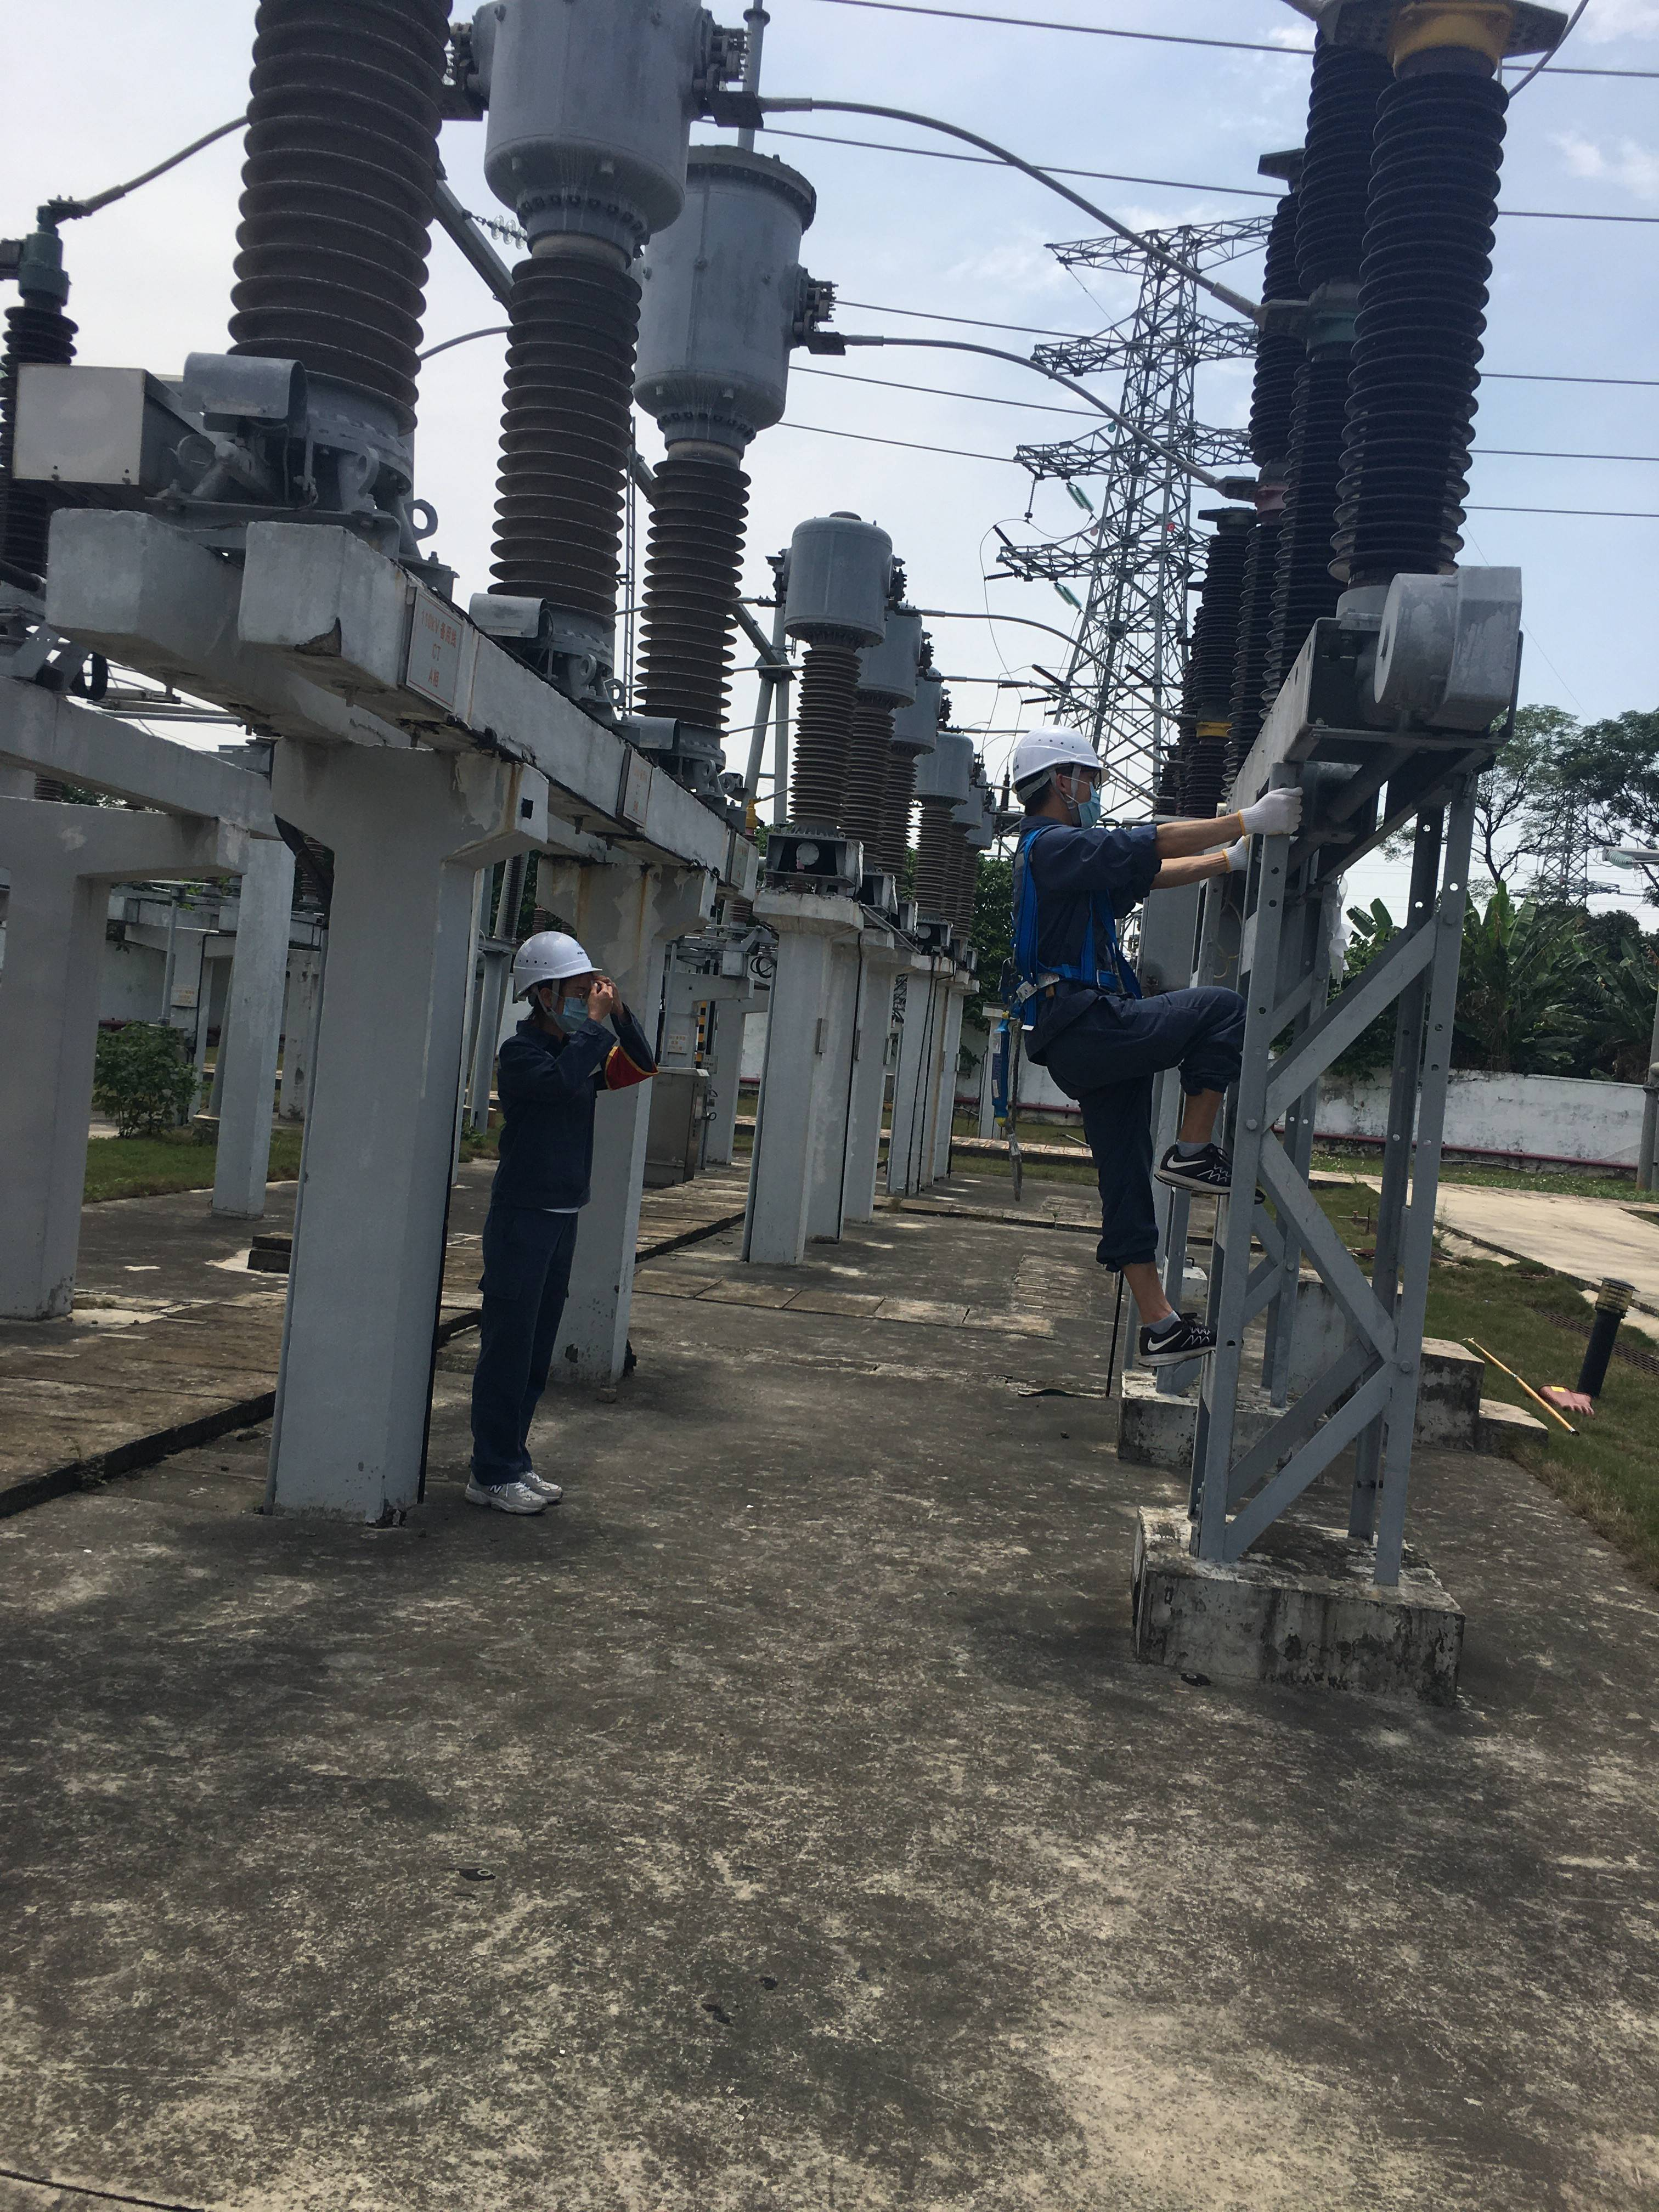downsuit: (1039, 998, 1239, 1268), (464, 1226, 579, 1470)
upsuit: (495, 1017, 647, 1217), (1006, 813, 1162, 998)
wrongbottom: (1105, 1223, 1176, 1336), (1171, 1047, 1237, 1160)
wrongtop: (1105, 812, 1241, 859)
